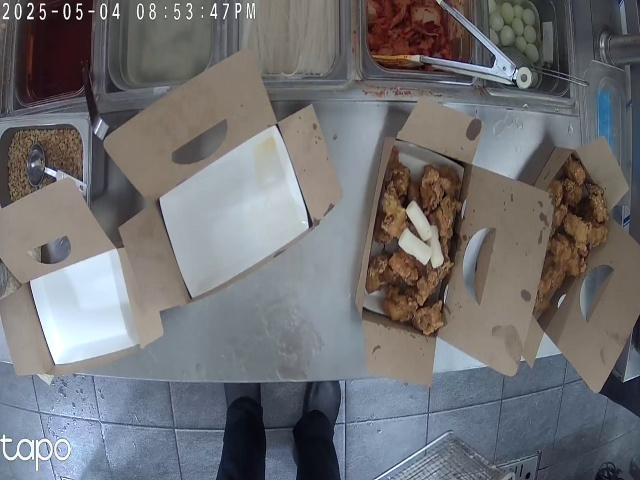delivery box: (371, 102, 535, 387), (106, 87, 331, 289), (0, 191, 159, 359), (541, 134, 640, 390)
food: (381, 150, 462, 330), (530, 158, 601, 308)
